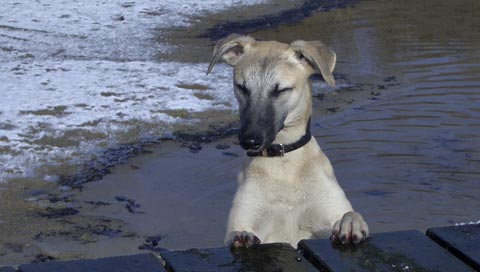dog: (207, 33, 372, 255)
